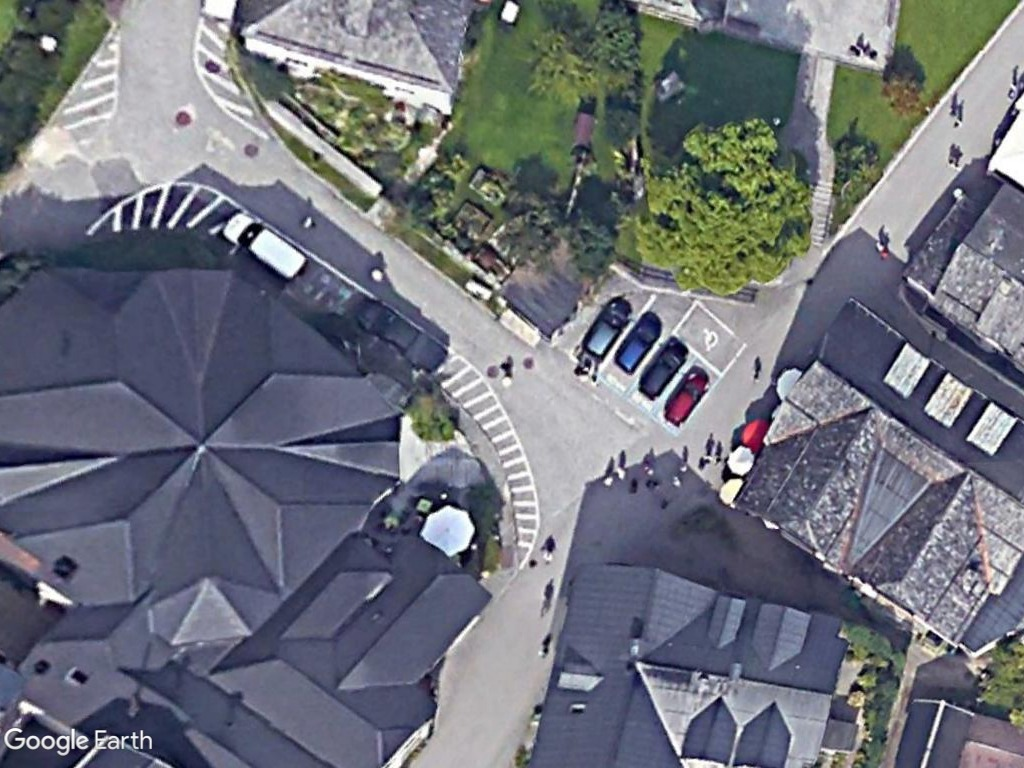car: (574, 292, 633, 365), (632, 337, 689, 404), (610, 313, 666, 375), (658, 367, 712, 427)
van: (213, 208, 311, 286)
